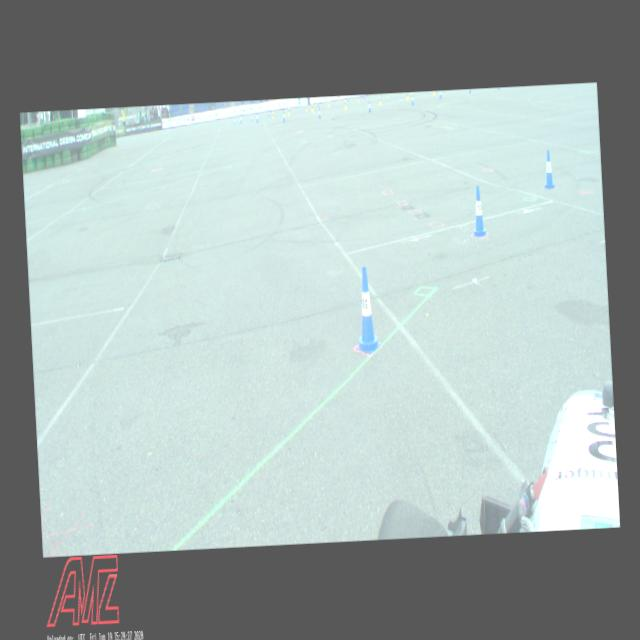blue_cone: (352, 265, 382, 355), (470, 185, 487, 238), (543, 150, 555, 189), (368, 100, 372, 112), (282, 111, 286, 122), (411, 94, 414, 106), (318, 108, 321, 119), (439, 90, 442, 98), (256, 113, 258, 123)
yellow_cone: (344, 99, 347, 110), (379, 95, 381, 105), (312, 103, 314, 112), (406, 92, 408, 100)
